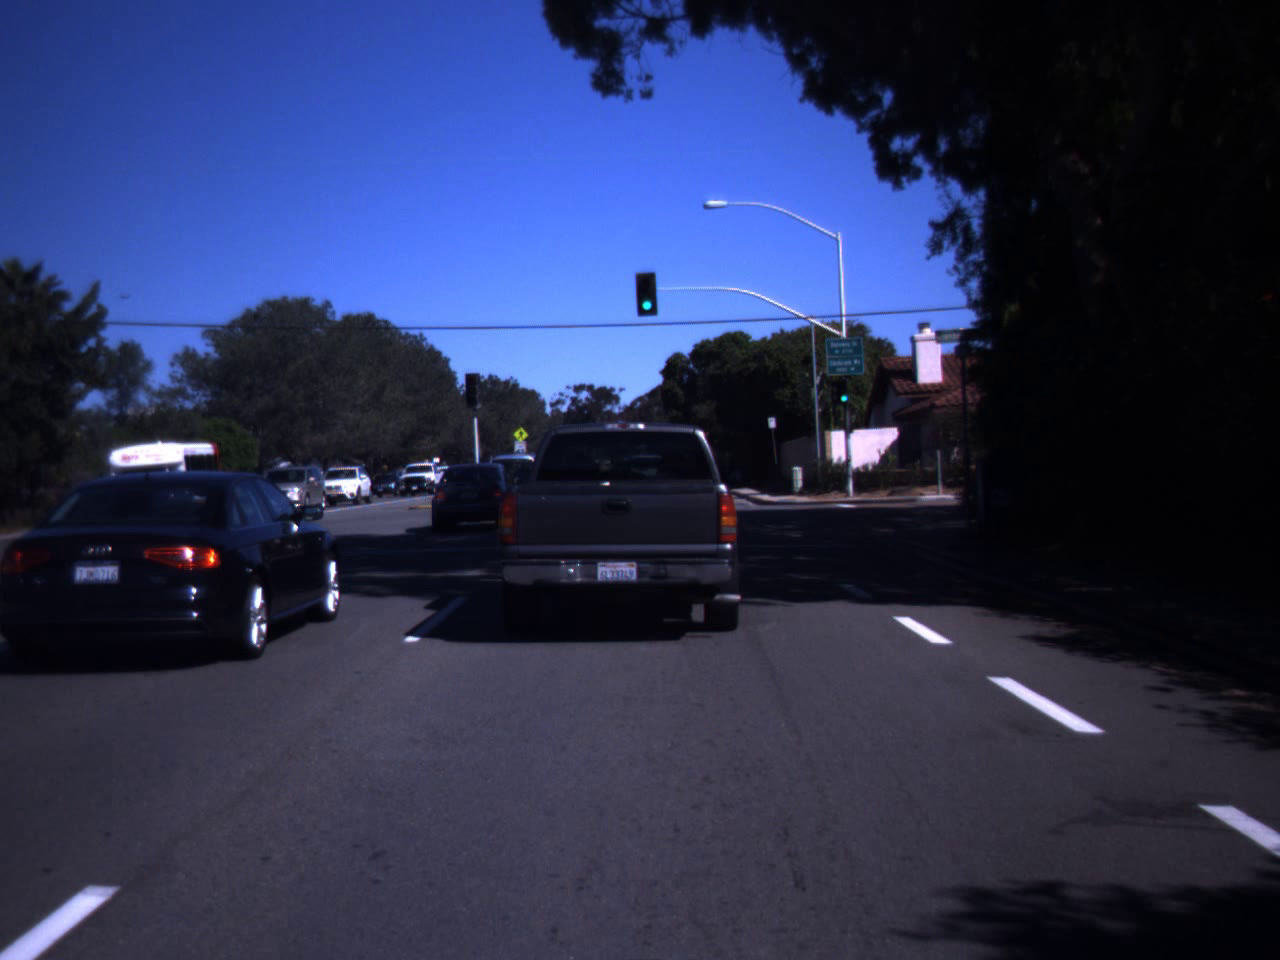go: (636, 277, 657, 312), (838, 382, 850, 402)
